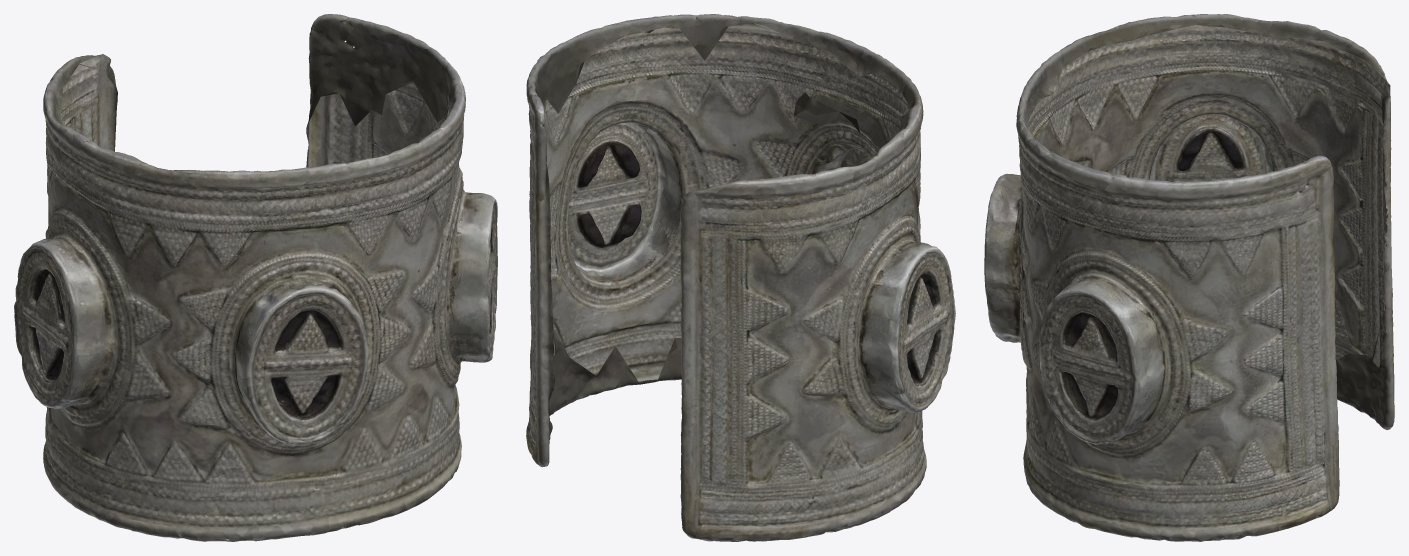
File: bilezik.glb
3 renders of one model, left to right at view 1: azimuth 30°, elevation 25°; view 2: azimuth 150°, elevation 25°; view 3: azimuth 270°, elevation 25°, orthographic.
Visible parts, largest first — view 1: Group_Global; view 2: Group_Global; view 3: Group_Global.
Boxes of the visible parts, x1,y1,x2,y2 form: Group_Global: (14, 14, 497, 541); Group_Global: (526, 14, 955, 541); Group_Global: (984, 14, 1394, 541).
Bounding box in the file's own units: 232 × 199 × 200.
Materials: 1 (1 with a texture image).
